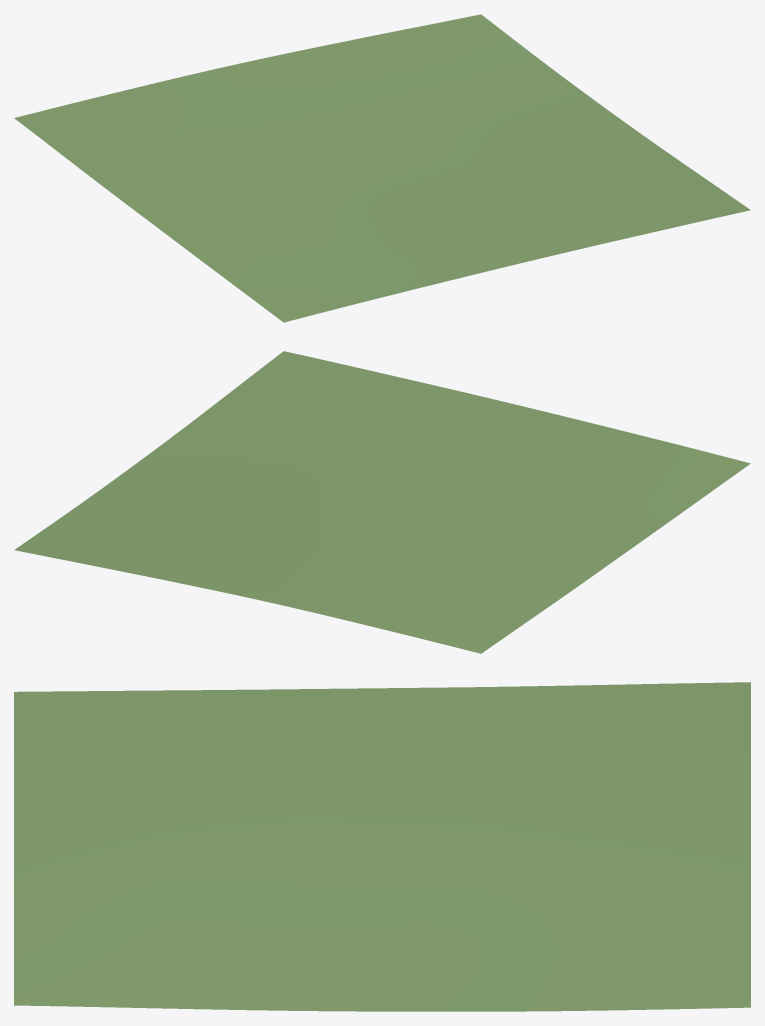
Rendered from floor_001_chunk_x+01_z+13_collision.glb.
3 views of the same model, one above another, from view 1: azimuth 30°, elevation 25°; view 2: azimuth 150°, elevation 25°; view 3: azimuth 270°, elevation 25° (orthographic). The views are drawn at different scales.
Visible parts, largest first — view 1: floor_001_chunk_x+01_z+13_collision; view 2: floor_001_chunk_x+01_z+13_collision; view 3: floor_001_chunk_x+01_z+13_collision.
Part boxes in pixels (x1=…): floor_001_chunk_x+01_z+13_collision: x1=14, y1=14, x2=750, y2=322; floor_001_chunk_x+01_z+13_collision: x1=14, y1=351, x2=750, y2=653; floor_001_chunk_x+01_z+13_collision: x1=14, y1=682, x2=750, y2=1011.
Size of the model in its own units: 256 by 7.21 by 256.
